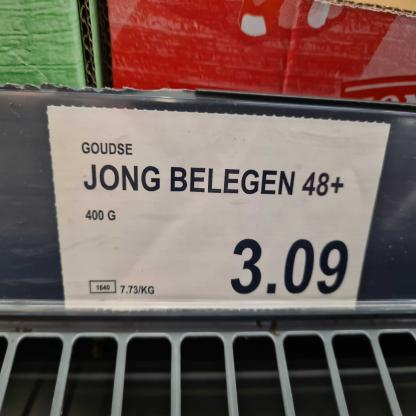prtg: (47, 107, 393, 313)
